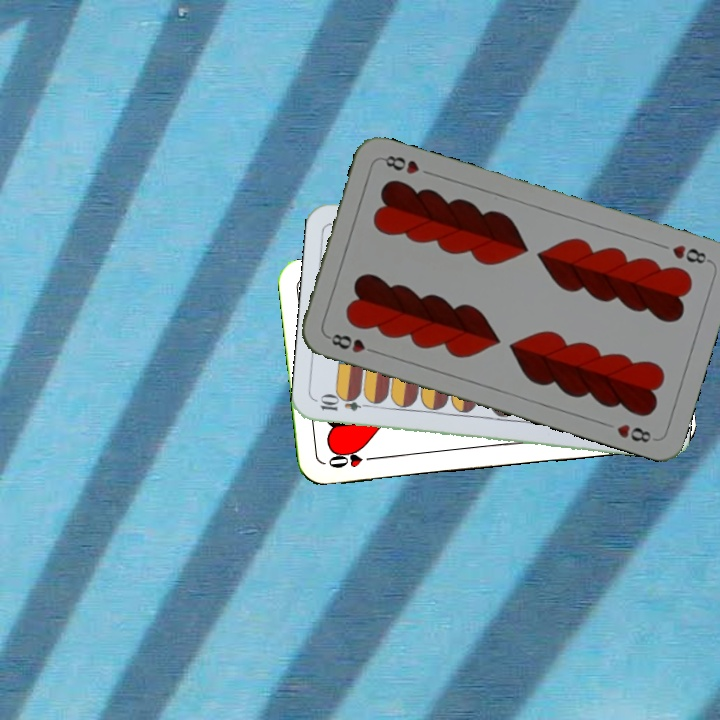E10: (316, 394, 375, 414)
H8: (323, 329, 381, 357), (668, 240, 713, 267)
HO: (324, 447, 381, 471)
